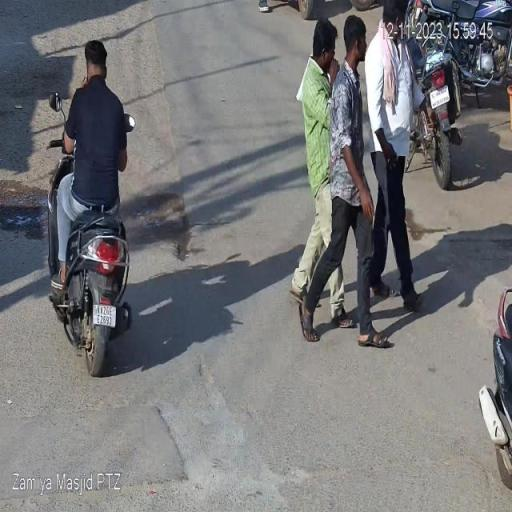numberplate: (92, 302, 118, 328)
using mobile: (79, 65, 91, 90)
